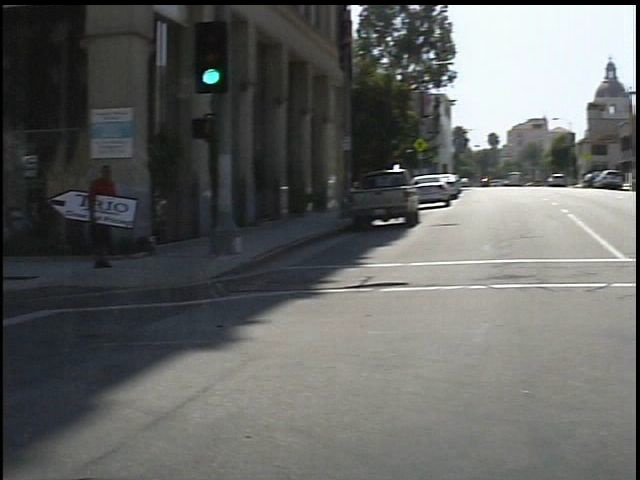person: (75, 158, 126, 278)
